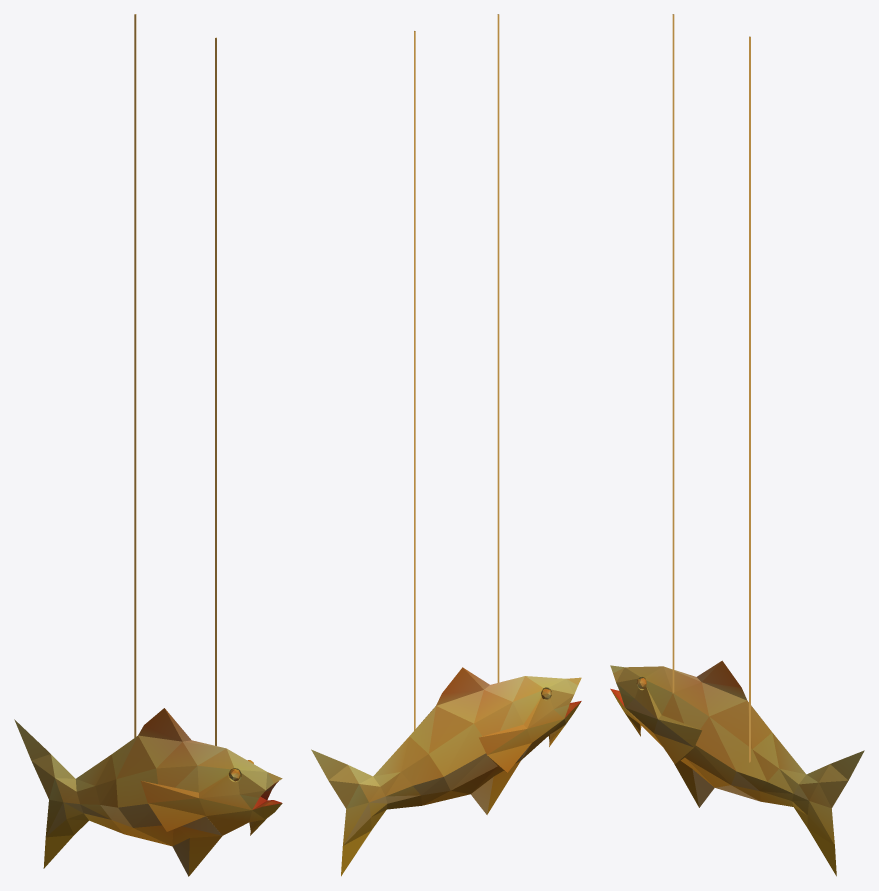
Rendered from GoldFishLight.fbx.
3 views of the same model, side by side, from view 1: azimuth 90°, elevation 25°; view 2: azimuth 150°, elevation 25°; view 3: azimuth 270°, elevation 25° (orthographic). The views are drawn at different scales.
Visible parts, largest first — view 1: Plane.019; view 2: Plane.019; view 3: Plane.019.
Part boxes in pixels (box(x1,y1,x2,y2)): Plane.019: box(14, 14, 282, 876); Plane.019: box(311, 14, 581, 876); Plane.019: box(610, 14, 864, 876).
Size of the model in its own units: 302 by 1642 by 459.
